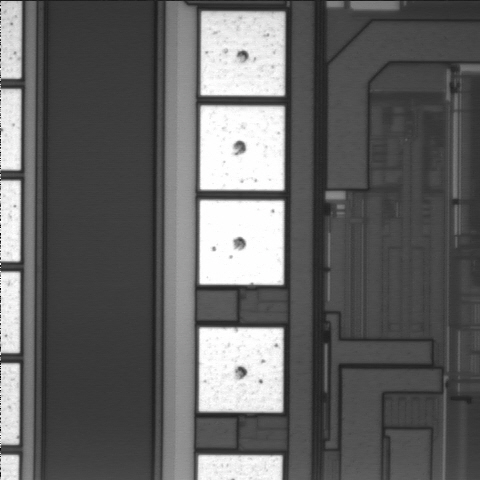pad: (200, 11, 285, 96), (200, 106, 285, 191), (199, 200, 284, 285), (199, 327, 283, 412)
